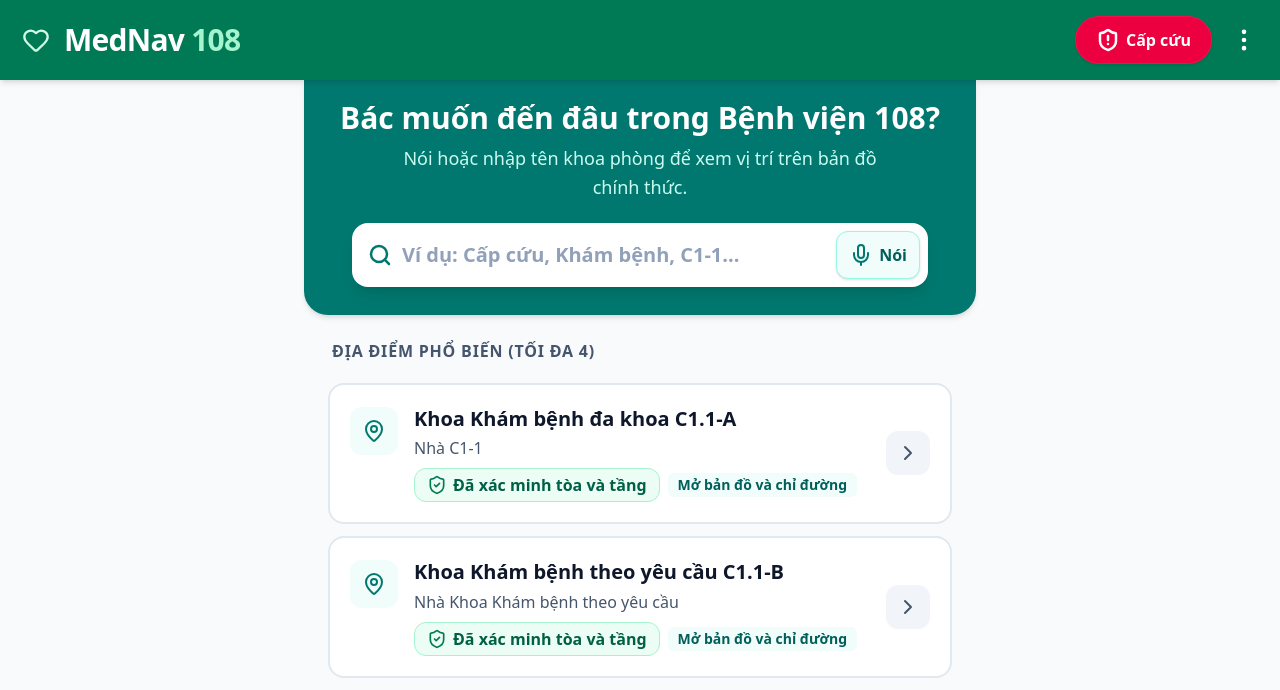
Test case: UI Interaction & Streamlined Flow Tests › Search & Emergency Interactions › Nút Cấp cứu trên header mở EmergencyModal với số hotline 024 6278 4115
This screenshot has width=1280, height=690.
Click the button labelled "Cấp cứu" at coordinates (1144, 40), box [1075,16,1212,64]
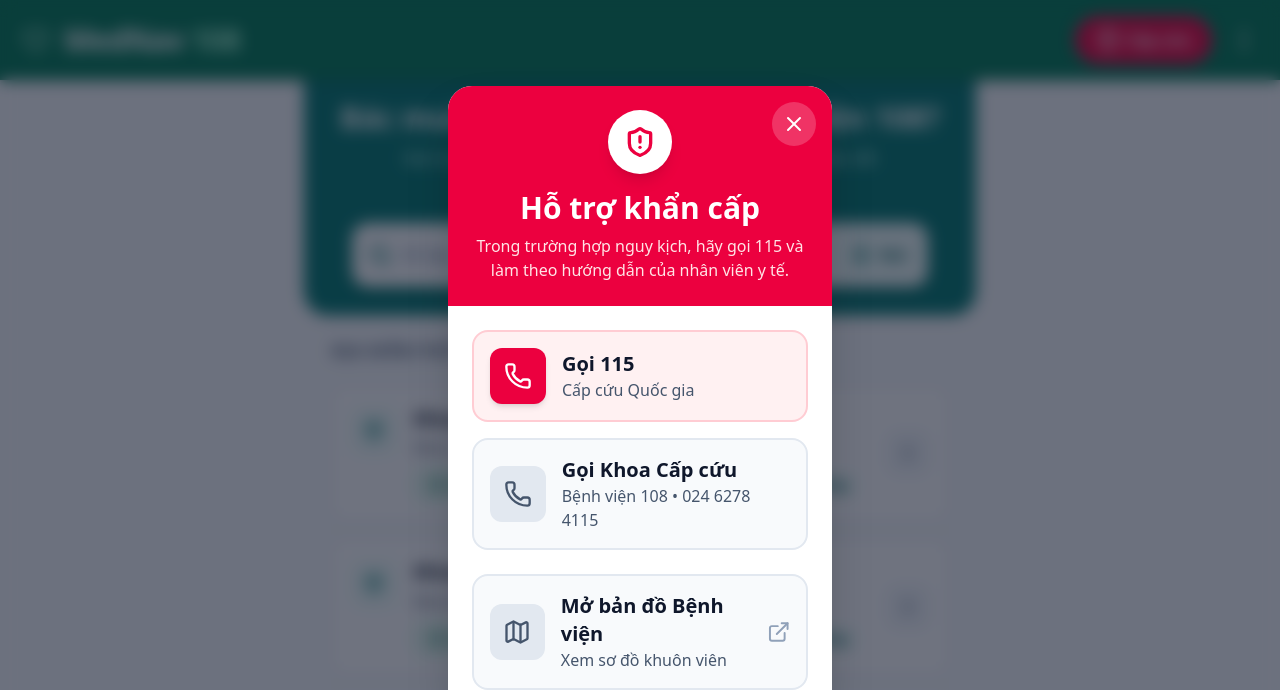
Check: the heading "Hỗ trợ khẩn cấp" is shown, box [520,190,760,226]
Check: the text "Bệnh viện 108 • 024 6278 4115" is shown, box [562,485,750,531]
Check: the text "Gọi 115" is shown, box [562,350,634,377]
